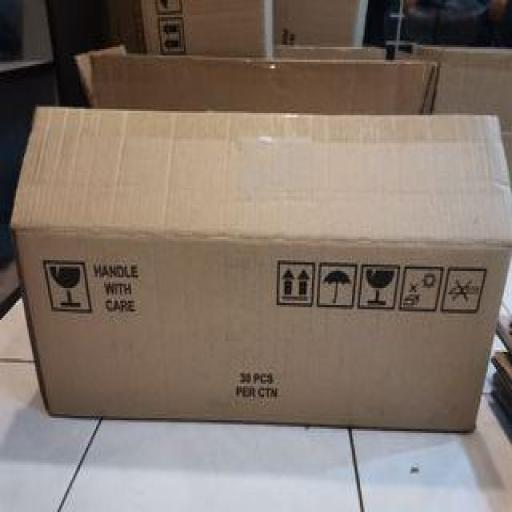cardboard: (10, 51, 511, 436)
